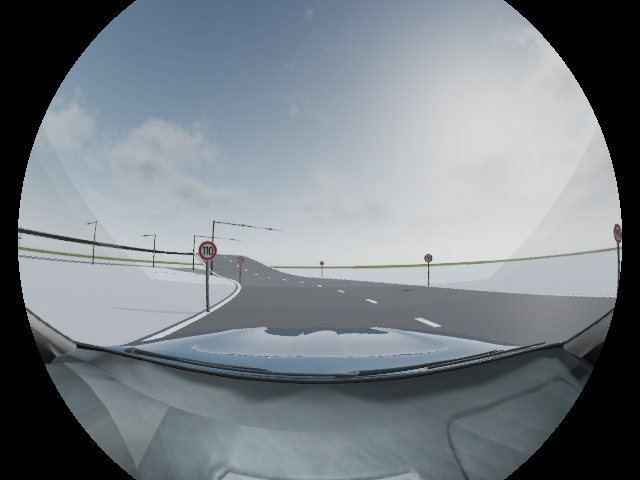Speed Limit 110: (199, 241, 217, 260)
